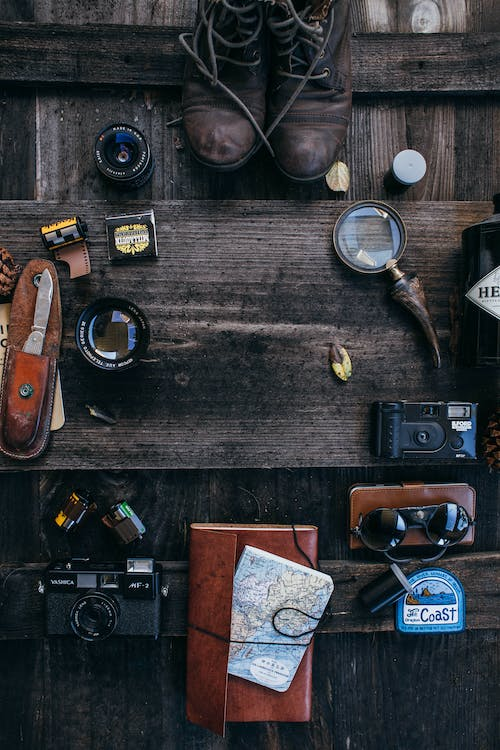knife: (21, 262, 57, 357)
